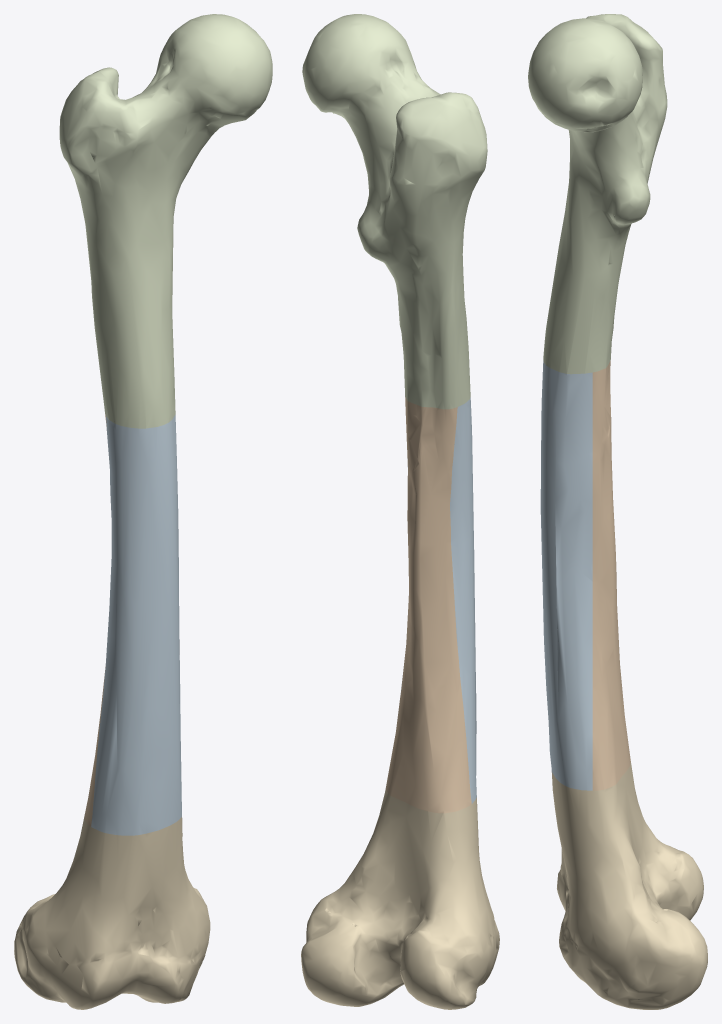
The model's file is femur_magnetic_30.glb.
3 renders of one model, left to right at view 1: azimuth 30°, elevation 25°; view 2: azimuth 150°, elevation 25°; view 3: azimuth 270°, elevation 25°, orthographic. The views are drawn at different scales.
Parts seen in each view (by area): view 1: 04_Верхняя_секция, 02_Средняя_половина_A, 01_Нижняя_секция; view 2: 04_Верхняя_секция, 01_Нижняя_секция, 03_Средняя_половина_B, 02_Средняя_половина_A; view 3: 04_Верхняя_секция, 01_Нижняя_секция, 02_Средняя_половина_A, 03_Средняя_половина_B.
Boxes of the visible parts, x1,y1,x2,y2 form: 04_Верхняя_секция: (59,14,272,428); 02_Средняя_половина_A: (91,415,181,835); 01_Нижняя_секция: (14,817,210,1009); 04_Верхняя_секция: (302,14,487,409); 01_Нижняя_секция: (301,789,499,1009); 03_Средняя_половина_B: (385,397,471,813); 02_Средняя_половина_A: (401,397,476,803); 04_Верхняя_секция: (528,14,667,374); 01_Нижняя_секция: (551,762,707,1009); 02_Средняя_половина_A: (540,360,592,790); 03_Средняя_половина_B: (592,361,630,790).
Bounding box in the file's own units: 0.0979 × 0.45 × 0.0738.
